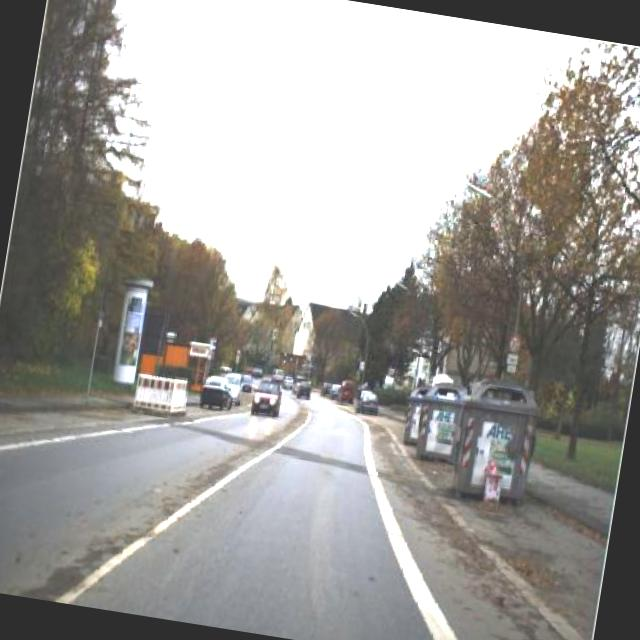Ograniczenie predkosci do 30: (506, 332, 522, 357)
